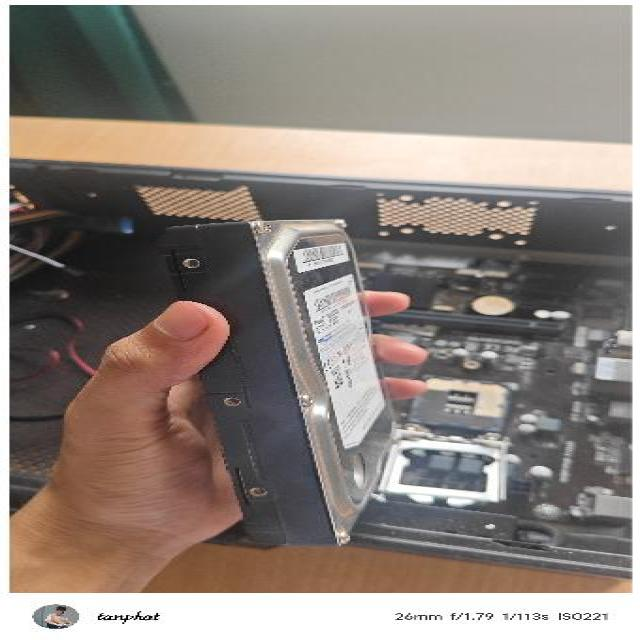DISK: (153, 214, 414, 546)
